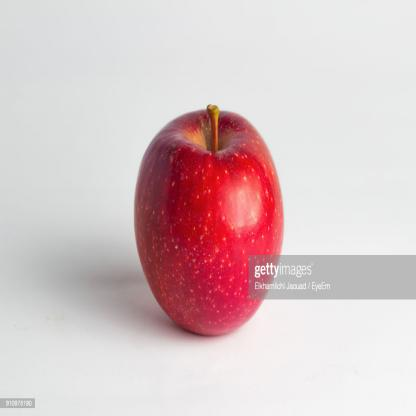Apple: (134, 94, 292, 333)
